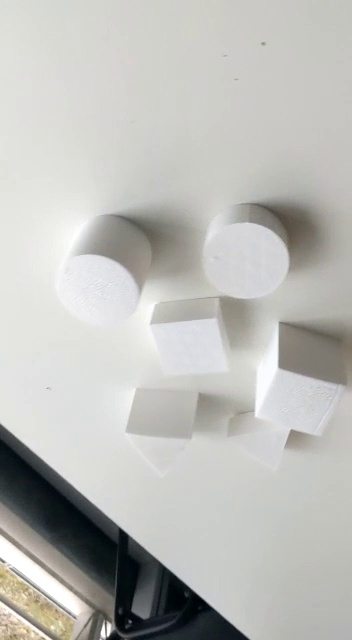Clyinder_short: (198, 203, 292, 302)
Cube: (251, 320, 352, 439)
Cube_short: (145, 295, 240, 379)
Cylinder: (56, 213, 150, 332)
Triangle: (124, 386, 200, 481)
Triangle_short: (223, 405, 297, 475)
